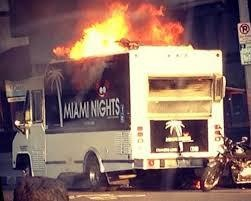fire: (57, 1, 203, 57), (54, 4, 130, 59)
